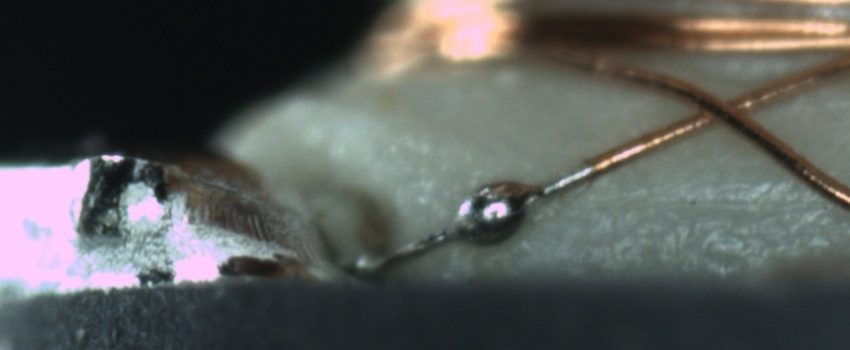CL: (681, 83, 766, 136)
DL: (577, 170, 850, 234)
TB: (453, 172, 538, 248)
TS: (352, 157, 592, 276)
TTCW: (353, 142, 636, 272)
